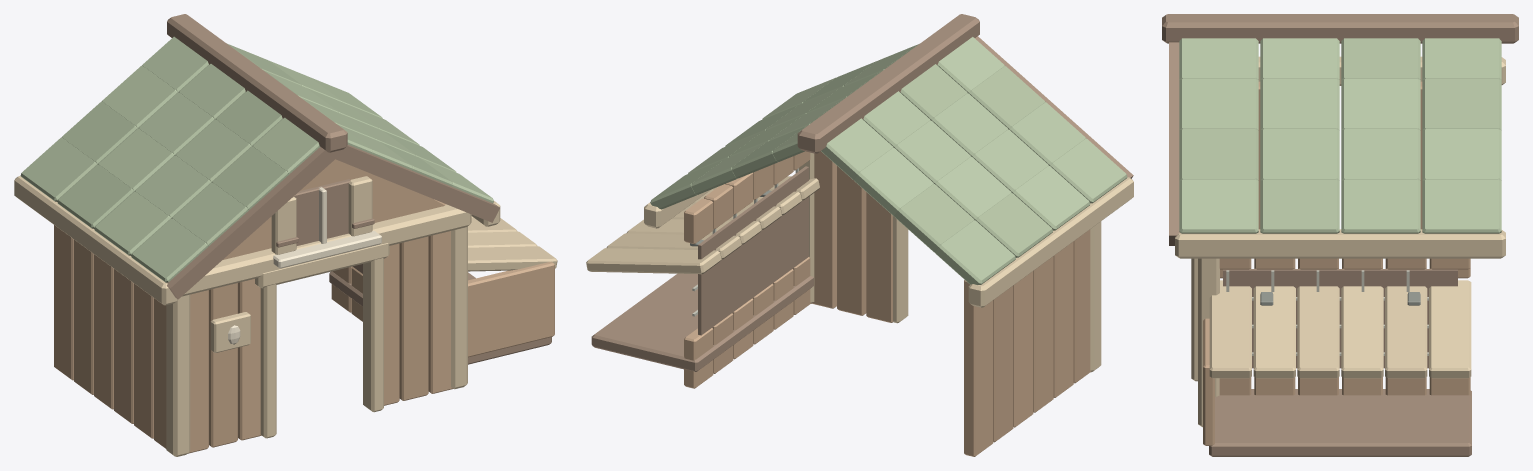
The model's file is crafted-coop-1-ready-front.glb.
3 renders of one model, left to right at view 1: azimuth 30°, elevation 25°; view 2: azimuth 150°, elevation 25°; view 3: azimuth 270°, elevation 25°, orthographic. The views are drawn at different scales.
Parts seen in each view (by area): view 1: nest-cheek-1, ridge-cap, siding-30, header-1, barge-board-1, corner-post-1, eave-fascia, siding-27, gable-1, siding-31, barge-board-3, siding-28 (+39 smaller); view 2: vent-dark-interior, nest-floor, ridge-cap, siding-8, eave-fascia, siding-30, siding-31, siding-29, siding-10, siding-11, siding-12, siding-9 (+40 smaller); view 3: nest-floor, ridge-cap, eave-fascia-1, vent-dark-interior, roof-tile-28, roof-tile-29, roof-tile-30, roof-tile-31, roof-tile-24, roof-tile-25, roof-tile-26, roof-tile-27 (+33 smaller).
Boxes of the visible parts, x1=… form: nest-cheek-1: x1=468, y1=261, x2=554, y2=357; ridge-cap: x1=167, y1=14, x2=347, y2=152; siding-30: x1=399, y1=236, x2=428, y2=400; header-1: x1=182, y1=204, x2=471, y2=296; barge-board-1: x1=167, y1=147, x2=338, y2=299; corner-post-1: x1=166, y1=294, x2=190, y2=456; eave-fascia: x1=14, y1=176, x2=177, y2=305; siding-27: x1=209, y1=283, x2=237, y2=447; gable-1: x1=223, y1=159, x2=444, y2=259; siding-31: x1=428, y1=231, x2=453, y2=393; barge-board-3: x1=332, y1=144, x2=499, y2=222; siding-28: x1=238, y1=279, x2=261, y2=440; vent-dark-interior: x1=698, y1=166, x2=808, y2=335; nest-floor: x1=591, y1=273, x2=813, y2=371; ridge-cap: x1=797, y1=14, x2=979, y2=153; siding-8: x1=964, y1=280, x2=993, y2=456; eave-fascia: x1=968, y1=177, x2=1133, y2=307; siding-30: x1=837, y1=166, x2=866, y2=315; siding-31: x1=812, y1=151, x2=836, y2=308; siding-29: x1=866, y1=192, x2=893, y2=322; siding-10: x1=1013, y1=271, x2=1033, y2=427; siding-11: x1=1033, y1=256, x2=1053, y2=412; siding-12: x1=1053, y1=241, x2=1073, y2=397; siding-9: x1=993, y1=286, x2=1013, y2=442; nest-floor: x1=1209, y1=389, x2=1471, y2=456; ridge-cap: x1=1162, y1=14, x2=1518, y2=43; eave-fascia-1: x1=1175, y1=229, x2=1505, y2=258; vent-dark-interior: x1=1223, y1=269, x2=1457, y2=368; roof-tile-28: x1=1422, y1=179, x2=1501, y2=233; roof-tile-29: x1=1341, y1=179, x2=1420, y2=233; roof-tile-30: x1=1260, y1=179, x2=1339, y2=233; roof-tile-31: x1=1179, y1=179, x2=1258, y2=233; roof-tile-24: x1=1422, y1=129, x2=1501, y2=180; roof-tile-25: x1=1341, y1=129, x2=1420, y2=180; roof-tile-26: x1=1260, y1=129, x2=1339, y2=180; roof-tile-27: x1=1179, y1=129, x2=1258, y2=180.
Bounding box in the file's own units: 2.22 × 1.56 × 1.52.
